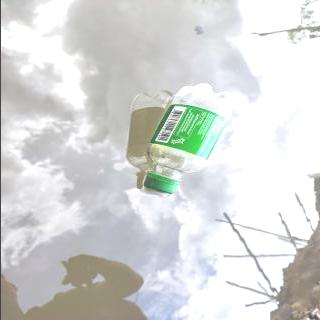bottle: (139, 82, 235, 196)
